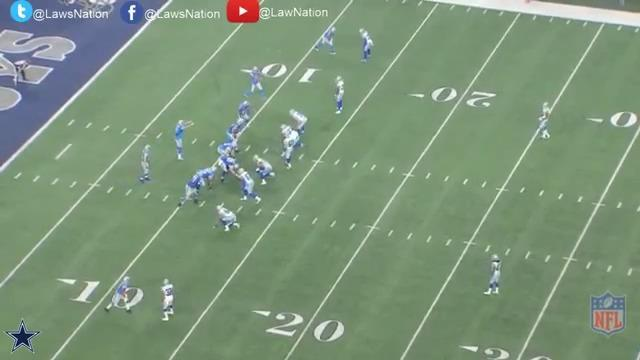player: (104, 274, 134, 314), (177, 171, 205, 211), (235, 167, 262, 204), (243, 64, 268, 102), (484, 250, 503, 299), (160, 278, 179, 324), (312, 23, 337, 56), (534, 101, 553, 142), (253, 155, 277, 187), (172, 118, 189, 162), (138, 140, 154, 186), (214, 203, 239, 232), (215, 154, 240, 183), (281, 121, 303, 150), (279, 129, 294, 171), (195, 166, 219, 192), (214, 141, 237, 168), (288, 108, 308, 139), (232, 100, 252, 129), (224, 117, 246, 143), (358, 27, 373, 65), (335, 75, 347, 117)
ref: (12, 60, 28, 88)
